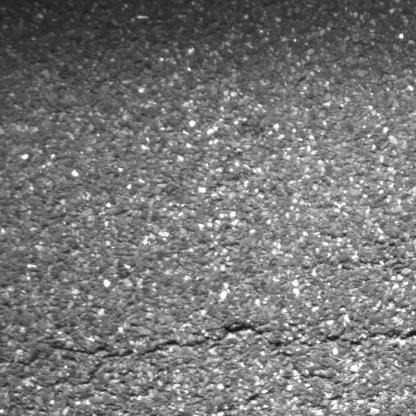Cracks: (0, 319, 416, 393)
